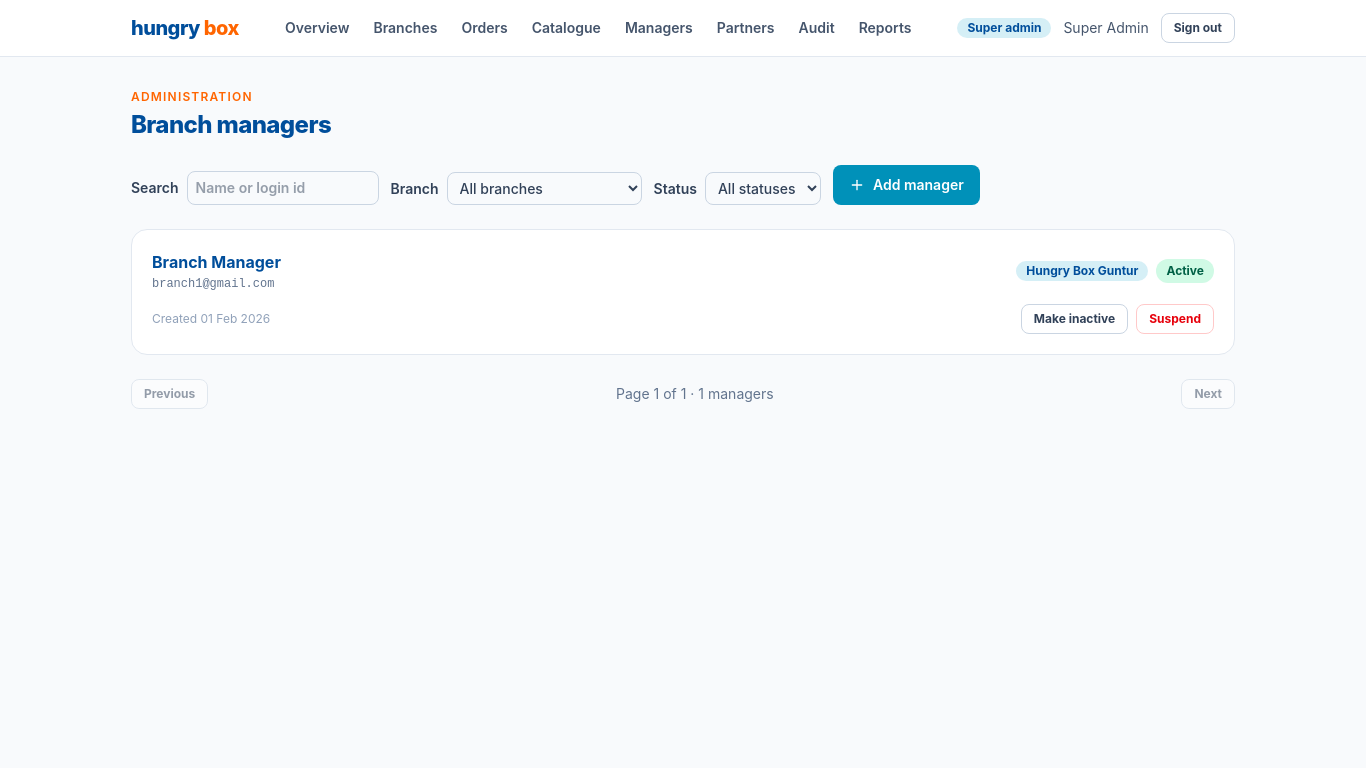
Scenario: admin managers › creates a manager and reveals the one-time password
Expected: the text "Branch Manager" is shown, [152,250,281,274]
Click the button "Add manager".
click(906, 185)  # box [833,165,980,205]
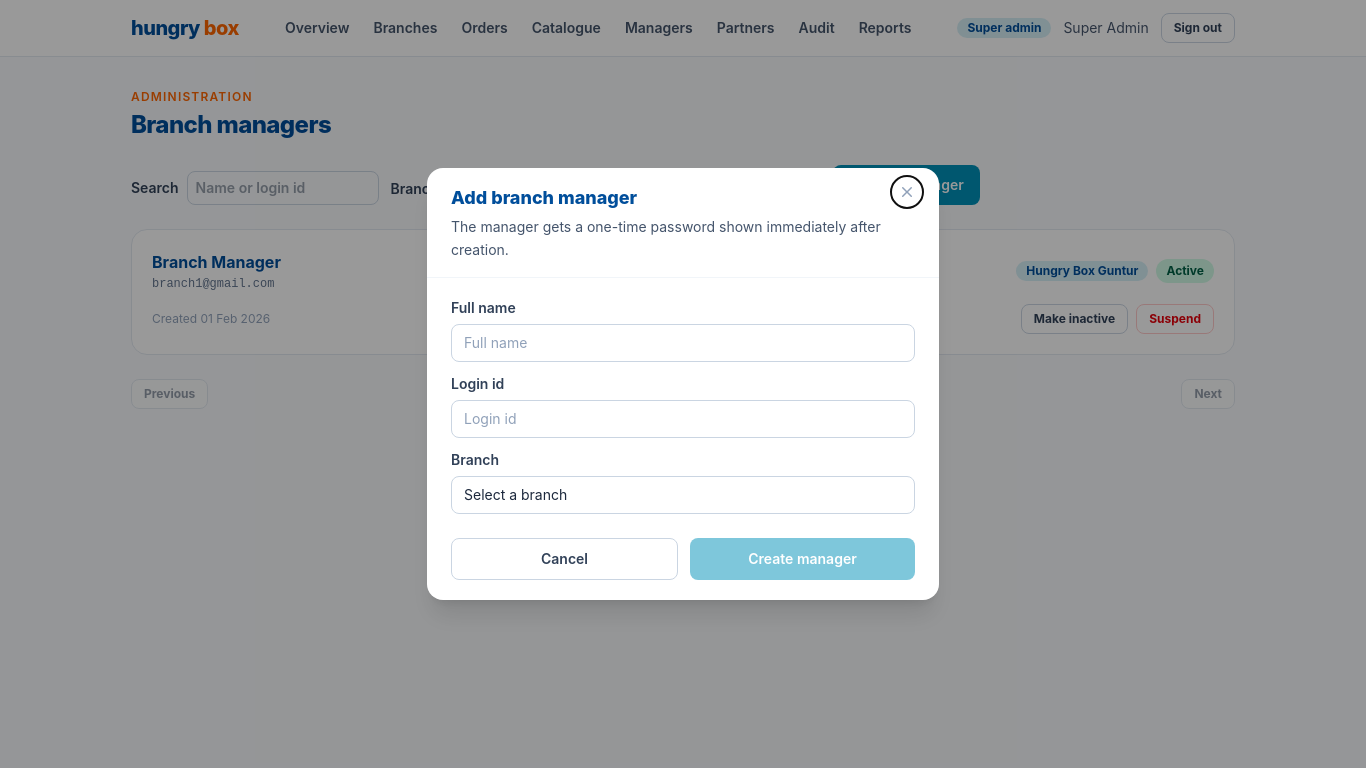
Type "Raju" into the field labelled "Full name".
click(683, 343); type("Raju")  # box [451,324,915,362]
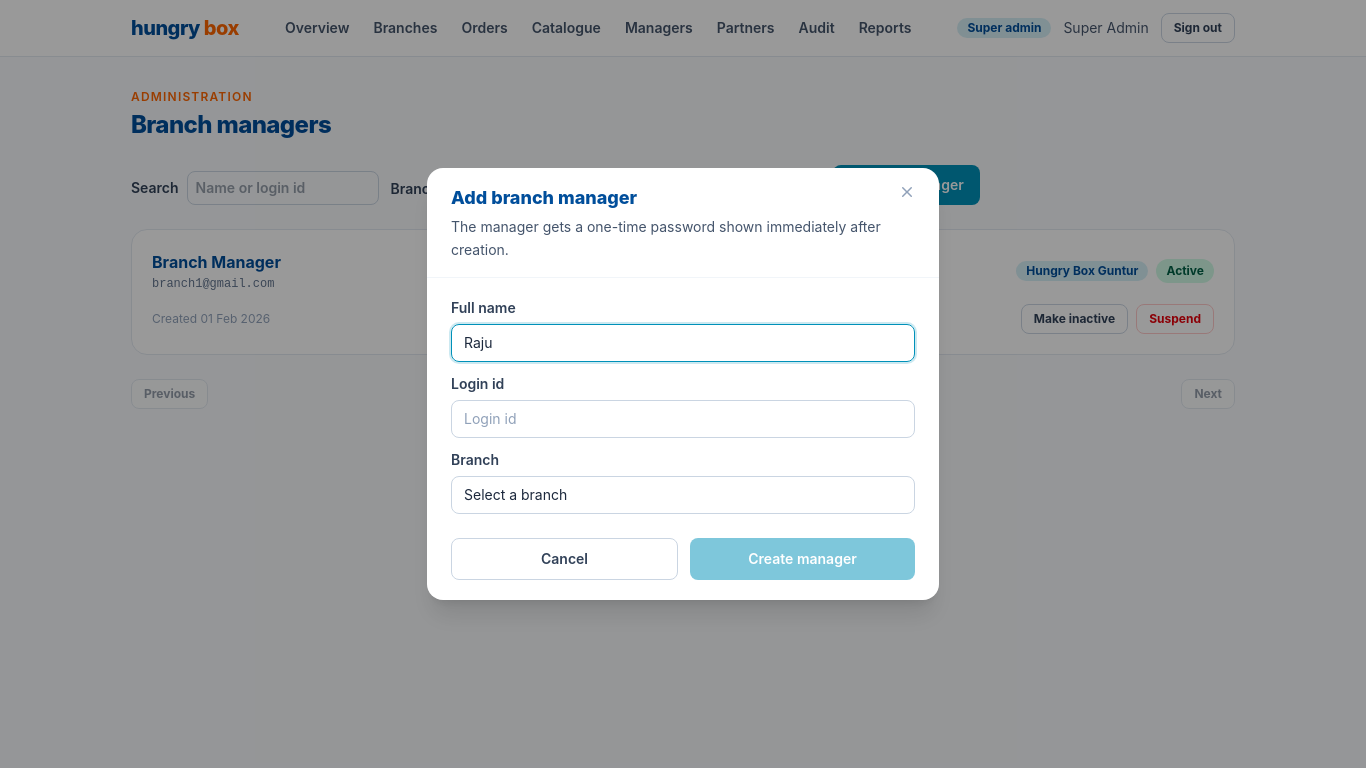
Type "raju@" into the field labelled "Login id".
click(683, 419); type("raju@")  # box [451,400,915,438]
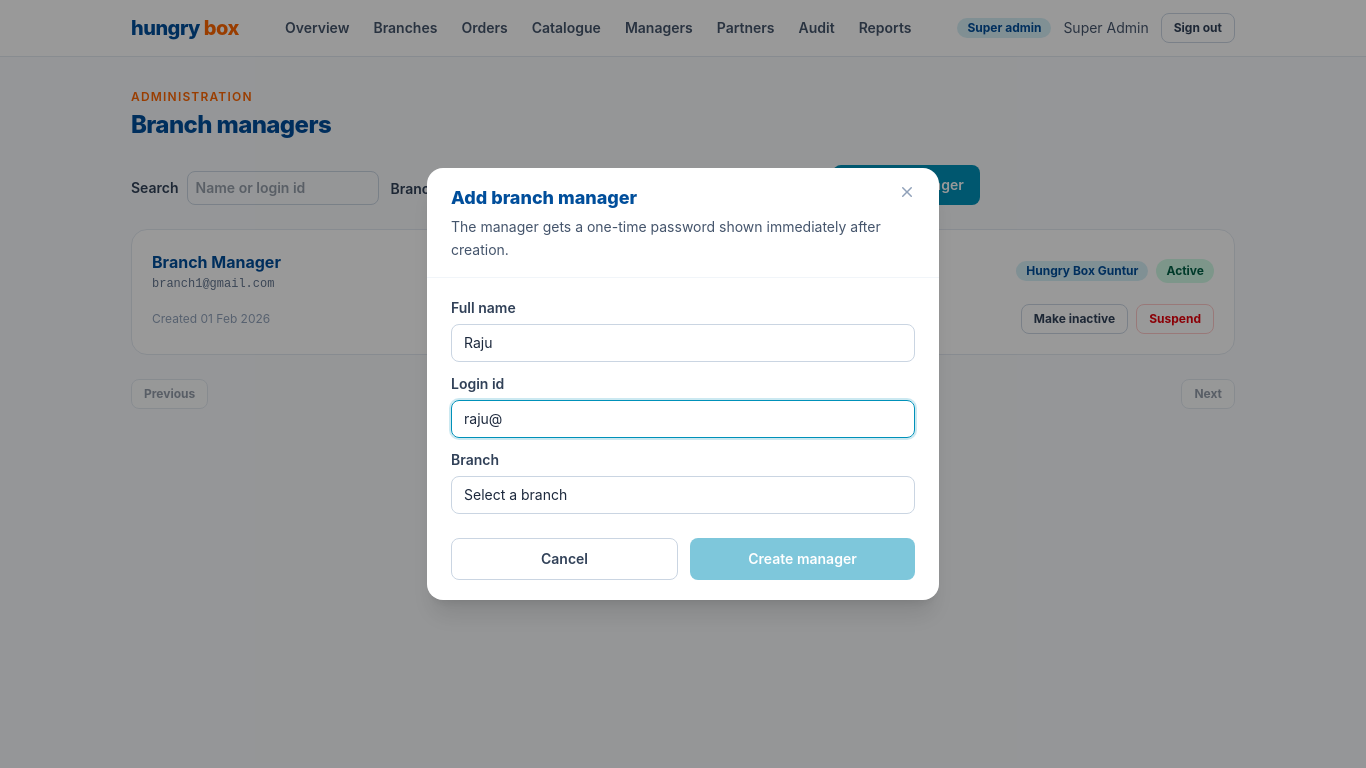
Select "Hungry Box Guntur" in the dropdown labelled "Branch" at (683, 495), box [451,476,915,514]
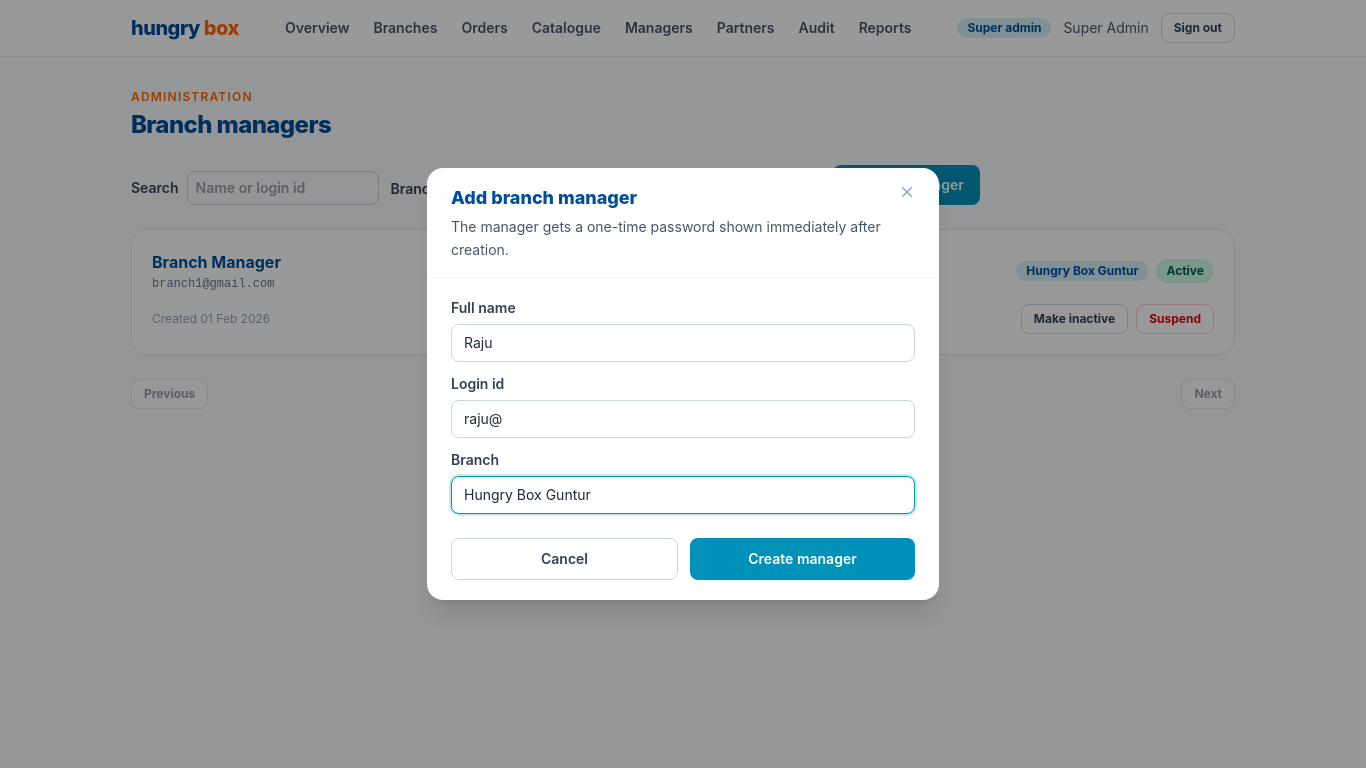
Click the button "Create manager".
click(802, 559)  # box [690,538,915,580]
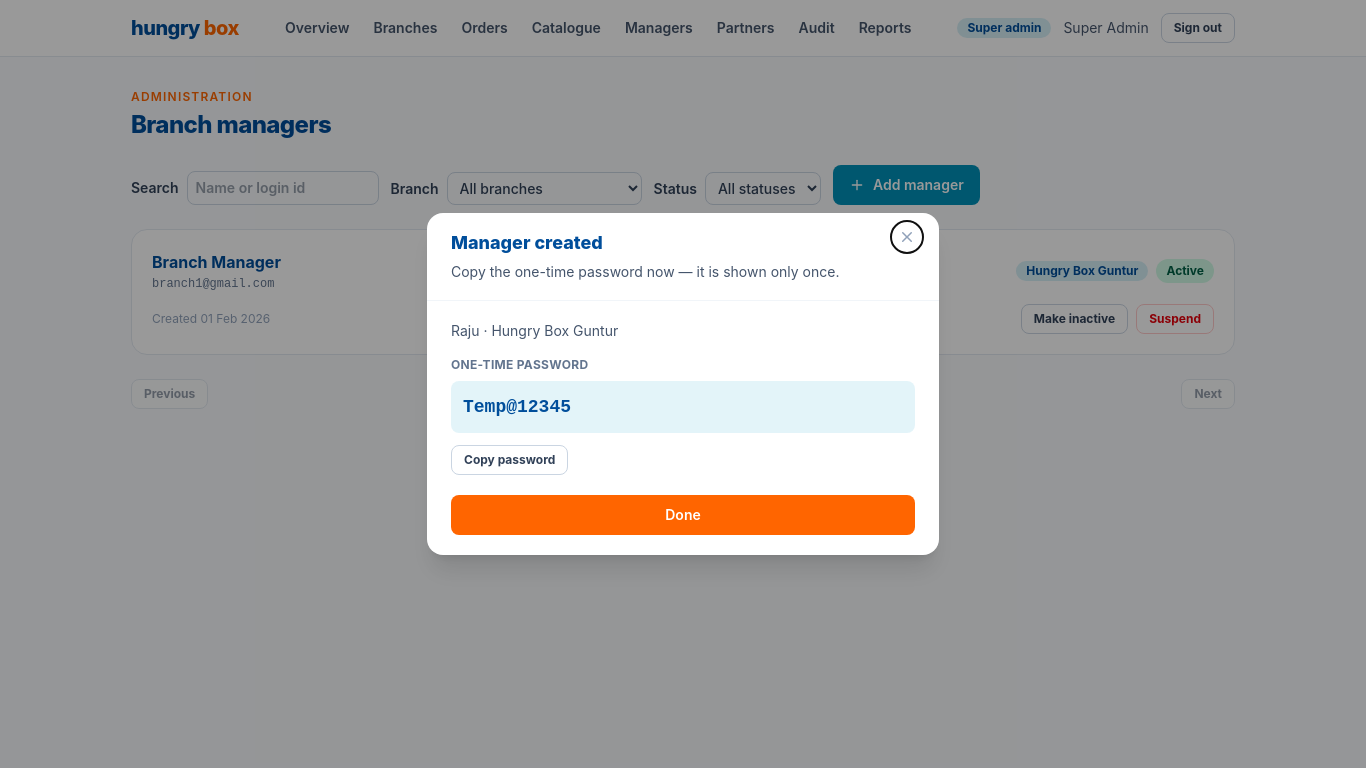
Now the text "Temp@12345" is shown, box [451,381,915,433]
Now the text "One-time password" is shown, box [451,357,588,372]
